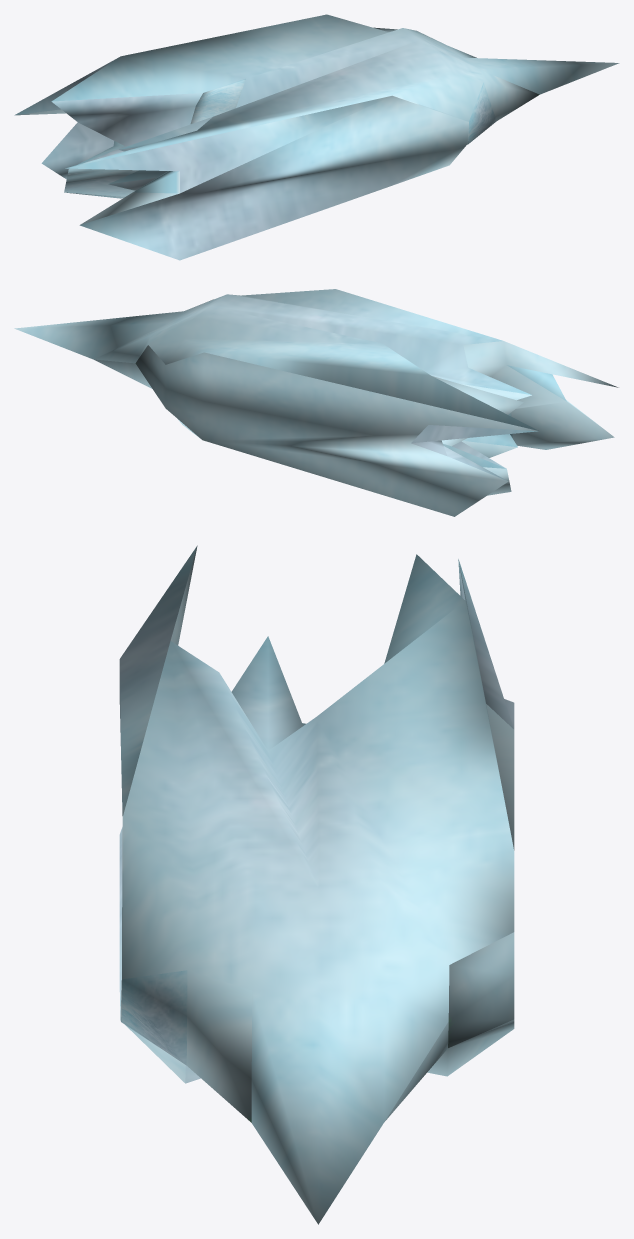
File: Ice Javelin.fbx
The picture shows the model from 3 angles, top to bottom: view 1: azimuth 30°, elevation 25°; view 2: azimuth 150°, elevation 25°; view 3: azimuth 270°, elevation 25°; orthographic projection. The views are drawn at different scales.
Parts seen in each view (by area): view 1: Box001; view 2: Box001; view 3: Box001.
Part boxes in pixels (x1,y1,x2,y2): Box001: (14,14,619,260); Box001: (14,289,618,516); Box001: (119,545,514,1224).
Size of the model in its own units: 148 by 32.07 by 43.87.
Materials: 1 (1 with a texture image).
